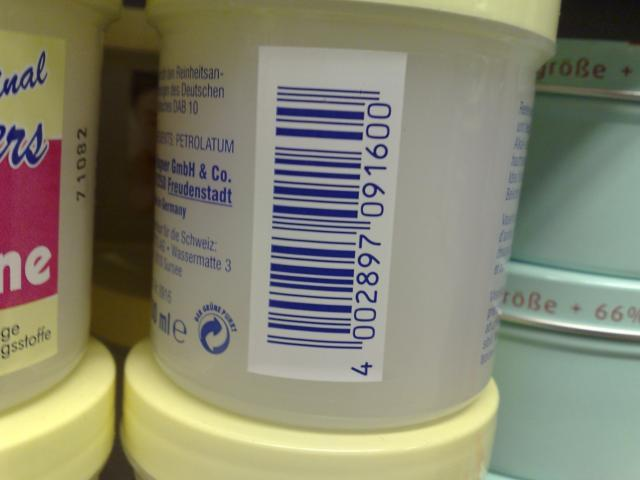Barcode: (263, 82, 398, 378)
